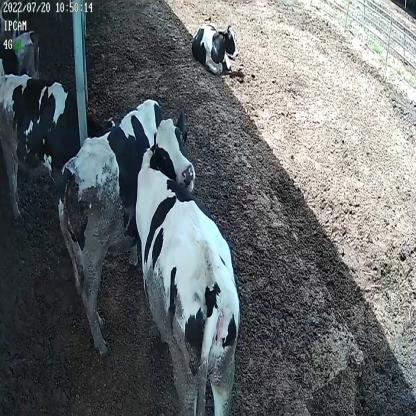cow: (56, 101, 192, 359), (134, 115, 244, 416), (1, 71, 119, 220), (190, 16, 240, 78)
